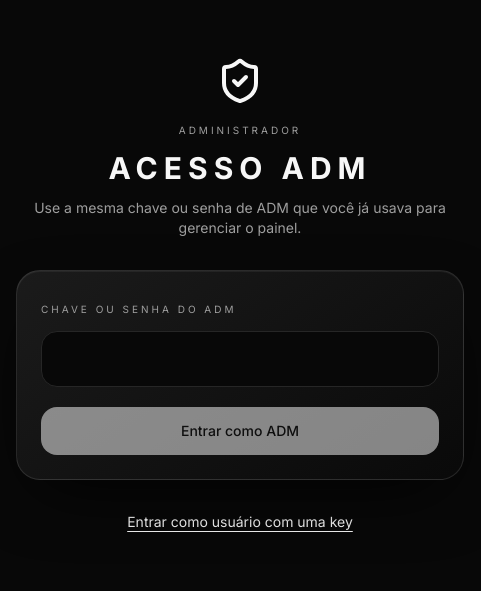
acessos de usuário e ADM › falha do serviço mostra erro de validação sem dizer que a senha é inválida
Type "acesso-adm" into the password field labelled "Chave ou senha do ADM" at [240, 358], box [41,330,439,386]
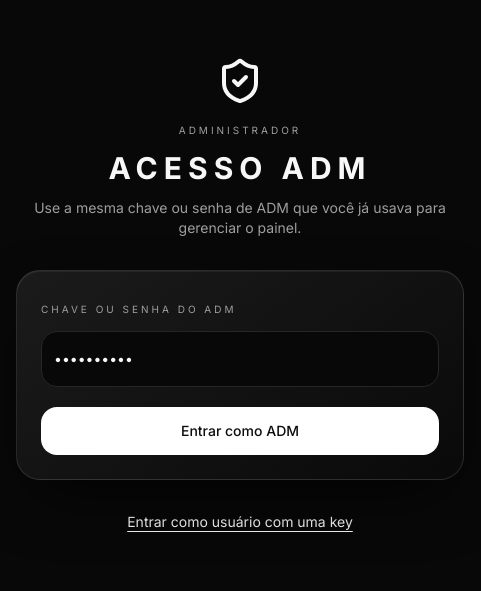
Submit the form named "Login de administrador", box [16,270,464,480]
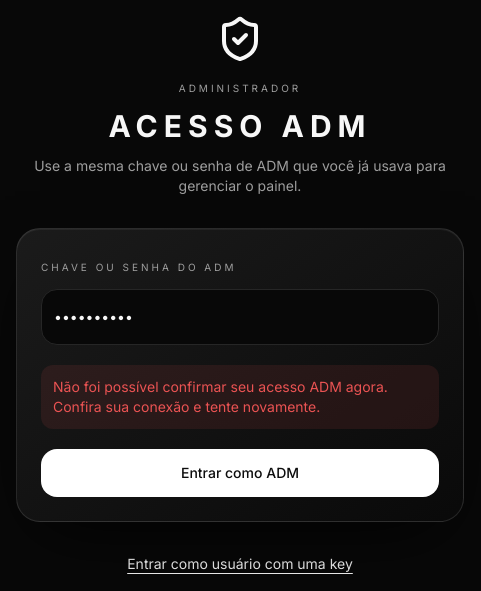
Expected: the message does not show "ADM inválida", [41,364,439,428]
Now the message shows "Não foi possível confirmar seu acesso ADM", box [53,378,388,414]
